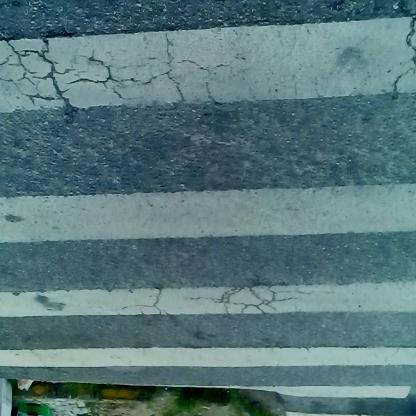crosswalk: (6, 18, 412, 402)
sidewalk: (12, 374, 292, 414)
